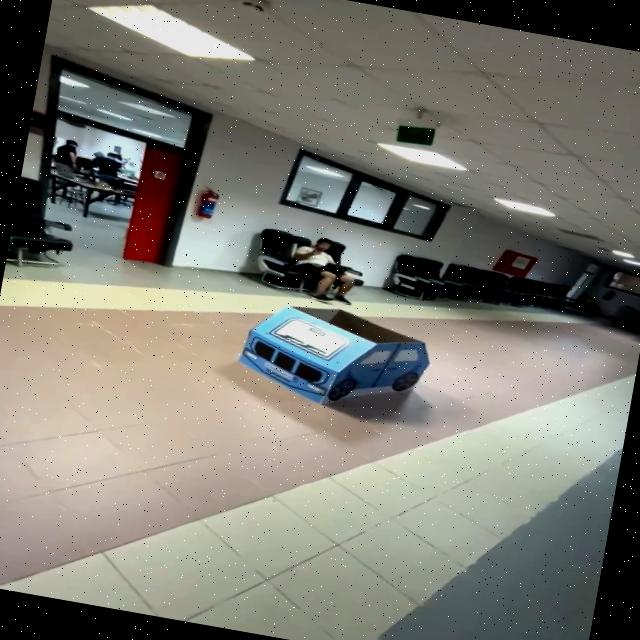blue_car: (213, 277, 469, 448)
